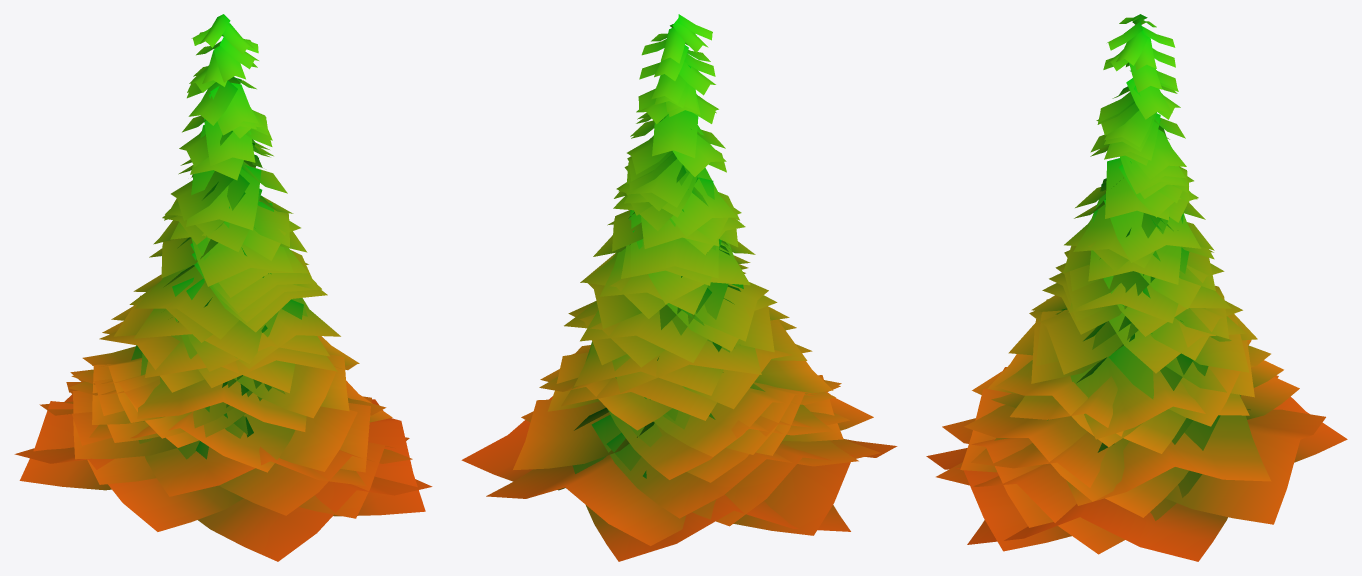
Rendered from tree 3.fbx.
3 views of the same model, side by side, from view 1: azimuth 30°, elevation 25°; view 2: azimuth 150°, elevation 25°; view 3: azimuth 270°, elevation 25° (orthographic). The views are drawn at different scales.
Parts seen in each view (by area): view 1: Tree_LOD0; view 2: Tree_LOD0; view 3: Tree_LOD0.
Boxes of the visible parts, bbox=[...] form: Tree_LOD0: bbox=[14, 14, 432, 561]; Tree_LOD0: bbox=[461, 14, 897, 561]; Tree_LOD0: bbox=[926, 14, 1347, 561].
Size of what is drawn, in the model's own units: 1890 by 2336 by 1858.
